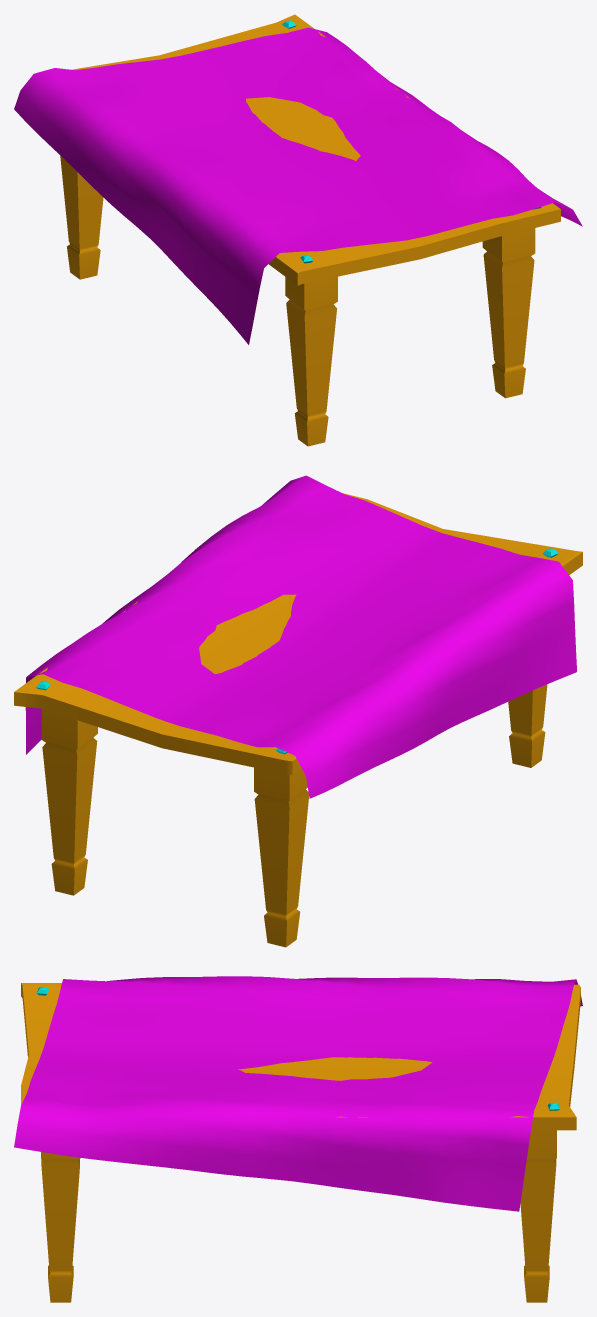
File: table_text.fbx
The picture shows the model from 3 angles, top to bottom: view 1: azimuth 30°, elevation 25°; view 2: azimuth 150°, elevation 25°; view 3: azimuth 270°, elevation 25°; orthographic projection. The views are drawn at different scales.
Visible parts, largest first — view 1: table:pPlane11; view 2: table:pPlane11; view 3: table:pPlane11.
Boxes of the visible parts, x1,y1,x2,y2 form: table:pPlane11: [14, 14, 582, 446]; table:pPlane11: [14, 475, 582, 947]; table:pPlane11: [14, 976, 582, 1302].
Bounding box in the file's own units: 9.27 × 5.75 × 14.34.
